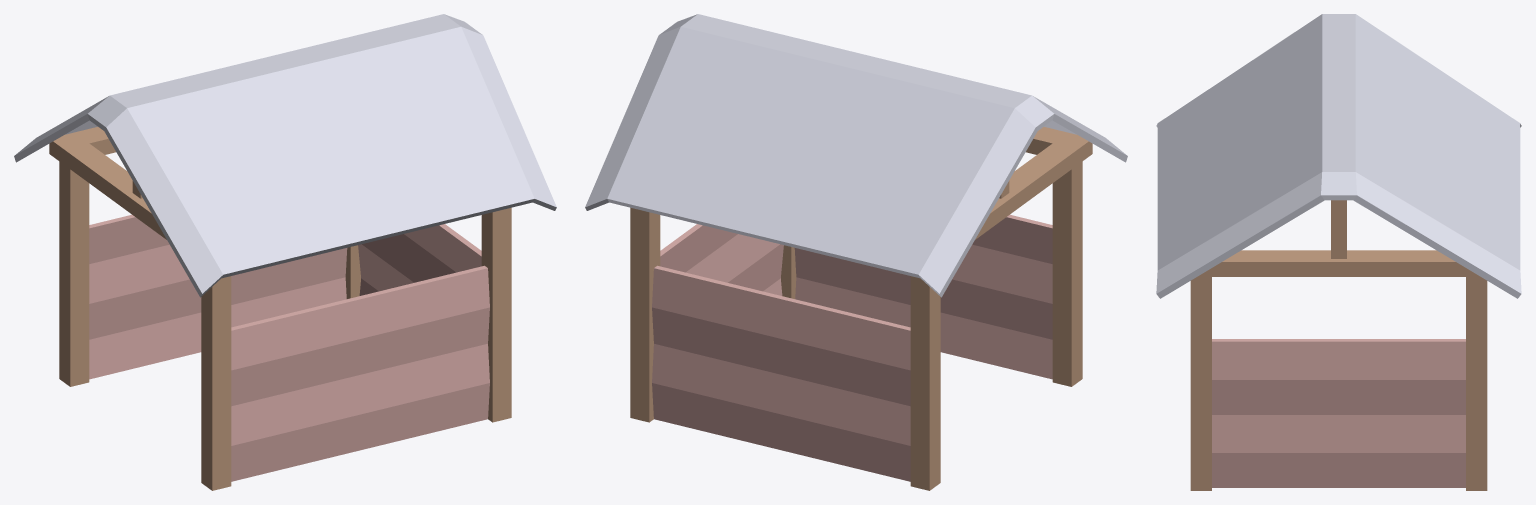
File: ShackRusty.fbx
The picture shows the model from 3 angles, left to right: view 1: azimuth 30°, elevation 25°; view 2: azimuth 150°, elevation 25°; view 3: azimuth 270°, elevation 25°; orthographic projection. The views are drawn at different scales.
Parts seen in each view (by area): view 1: ShackRusty; view 2: ShackRusty; view 3: ShackRusty.
Part boxes in pixels (x1=…): ShackRusty: x1=14, y1=14, x2=556, y2=490; ShackRusty: x1=585, y1=14, x2=1127, y2=490; ShackRusty: x1=1156, y1=14, x2=1521, y2=490.
Size of the model in its own units: 4.36 by 3.73 by 3.77.
